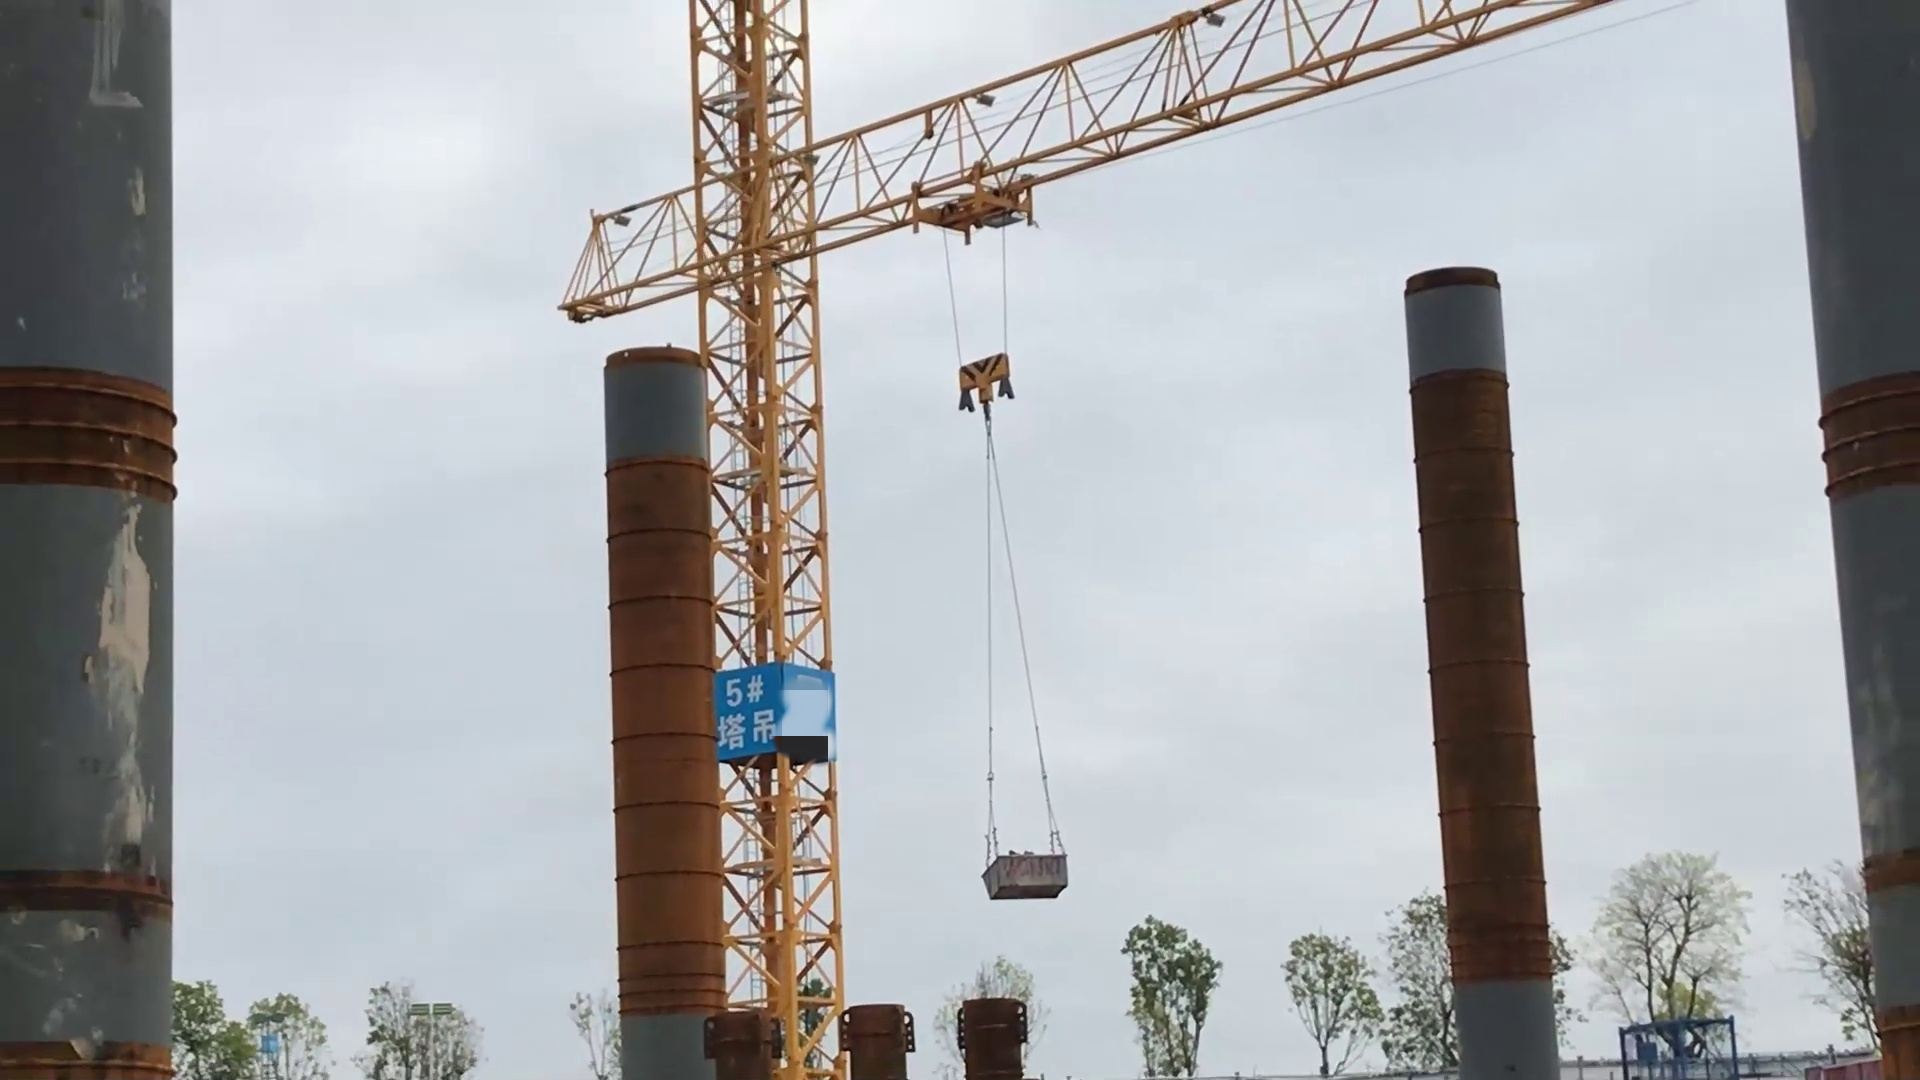hook: (957, 349, 1013, 411)
hopper: (986, 831, 1076, 902)
